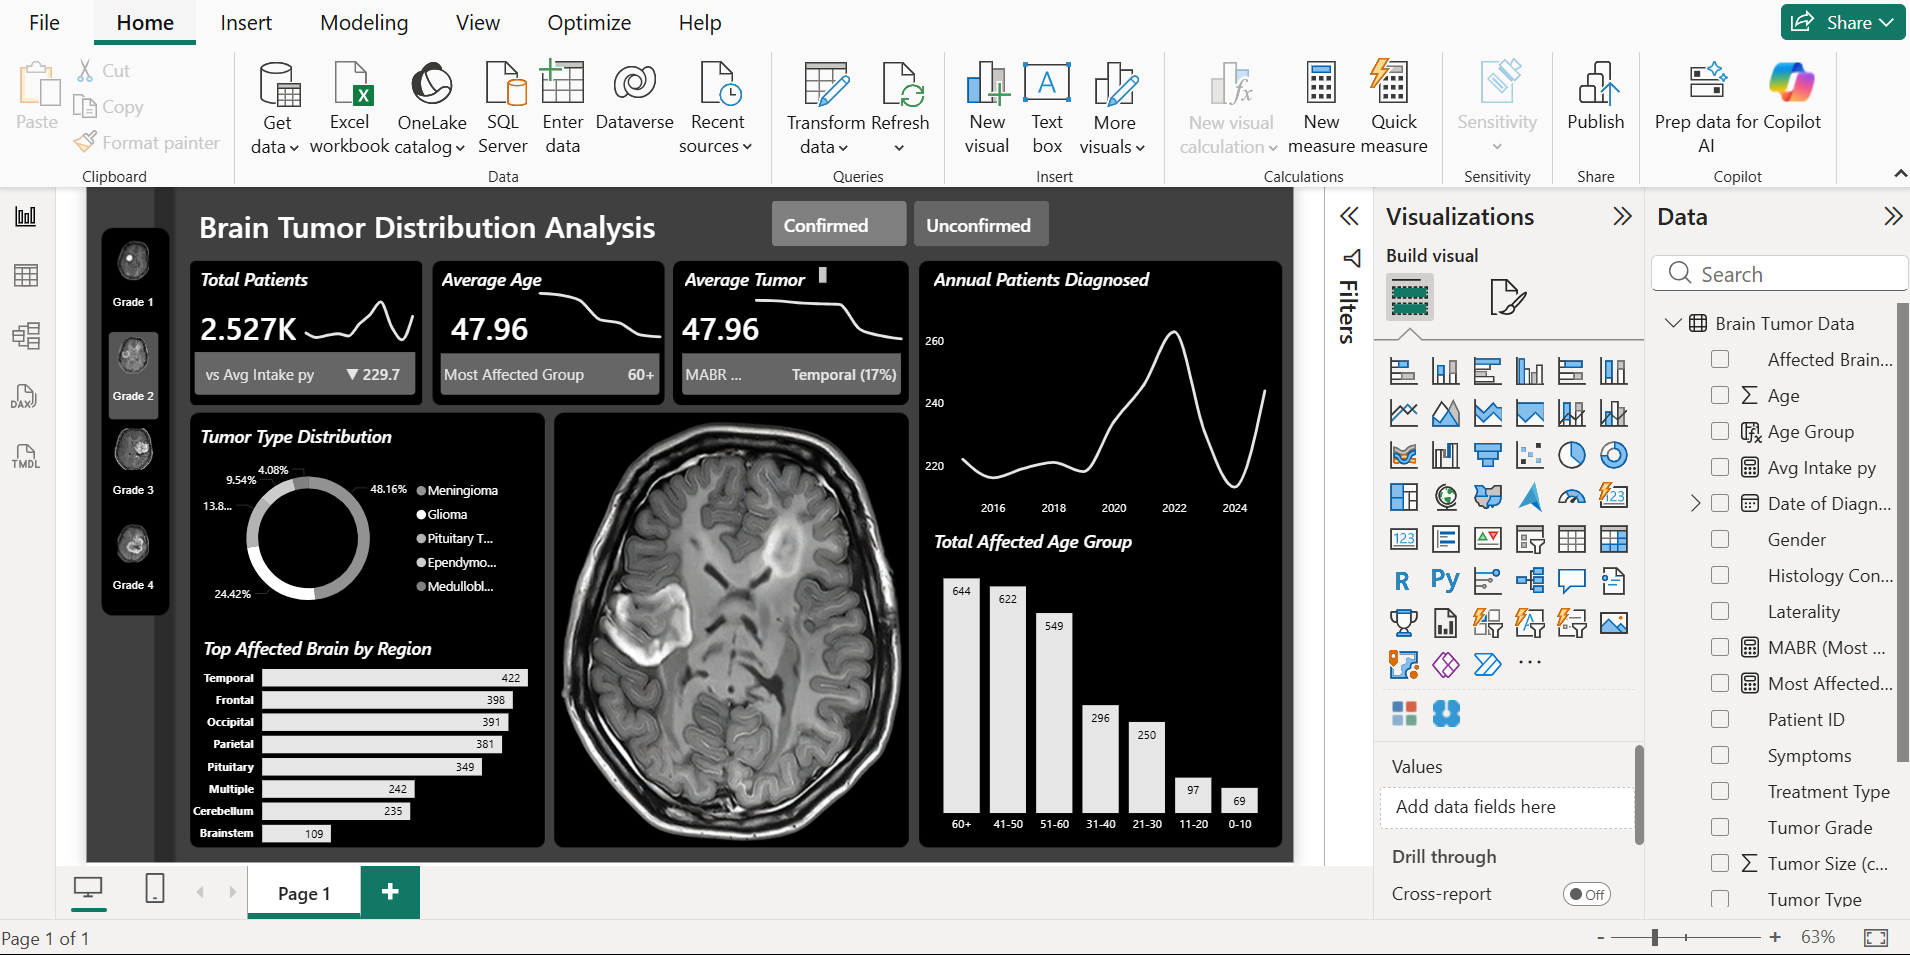

The page's visual inventory and layout, read from the dashboard file:
{"tool":"powerbi","page":{"name":"Page 1","canvas":[1280,720],"ordinal":0},"visuals":[{"type":"cardVisual","fields":{"Data":["CountNonNull(Brain Tumor Data.Patient ID)"]},"box":[92.3,100.2,187.7,95.4],"z":0},{"type":"lineChart","fields":{"Category":["Brain Tumor Data.Date of Diagnosis.Variation.Date Hierarchy.Year"],"Y":["CountNonNull(Brain Tumor Data.Patient ID)"]},"box":[217.9,93.8,143.2,84.3],"z":1000},{"type":"cardVisual","fields":{"Data":["CountNonNull(Brain Tumor Data.Patient ID)"]},"box":[85.9,76.3,292.7,173.4],"z":2000},{"type":"textbox","box":[116,79.5,160.7,36.6],"z":3000},{"type":"cardVisual","fields":{"Data":["Avg(Brain Tumor Data.Age)"]},"box":[357.9,100.2,187.7,95.4],"z":4000},{"type":"lineChart","fields":{"Y":["CountNonNull(Brain Tumor Data.Patient ID)"],"Category":["Brain Tumor Data.Age Group"]},"box":[467.6,85.9,154.3,84.3],"z":5000},{"type":"cardVisual","fields":{"Data":["CountNonNull(Brain Tumor Data.Patient ID)"]},"box":[346.8,76.3,292.7,173.4],"z":6000},{"type":"textbox","box":[372.2,79.5,160.7,36.6],"z":7000},{"type":"cardVisual","fields":{"Data":["Avg(Brain Tumor Data.Age)"]},"box":[602.8,100.2,187.7,95.4],"z":8000},{"type":"lineChart","fields":{"Category":["Brain Tumor Data.Affected Brain Region"],"Y":["Sum(Brain Tumor Data.Tumor Size (cm))"]},"box":[696.7,98.6,181.3,90.7],"z":9000},{"type":"textbox","box":[629.9,79.5,160.7,36.6],"z":10000},{"type":"cardVisual","fields":{"Data":["CountNonNull(Brain Tumor Data.Patient ID)"]},"box":[602.8,76.3,292.7,173.4],"z":11000},{"type":"advancedSlicerVisual","fields":{"Values":["Brain Tumor Data.Histology Confirmation"]},"box":[722.1,9.5,305.4,58.9],"z":12000},{"type":"ChicletSlicer1448559807354","fields":{"Image":["Tumor Images.Column2"],"Category":["Tumor Images.Column1"]},"box":[14.3,44.5,82.7,418.3],"z":13000},{"type":"imageDB603108E3FF4EBFB8047F5653368E8C","fields":{"imageUrl":["Tumor Images.Column2"]},"box":[475.6,216.3,419.9,504.2],"z":14000},{"type":"donutChart","fields":{"Category":["Brain Tumor Data.Tumor Type"],"Y":["CountNonNull(Brain Tumor Data.Patient ID)"]},"box":[116.1,273.6,337.2,197.2],"z":15000},{"type":"textbox","box":[116.1,246.5,238.6,35],"z":16000},{"type":"clusteredBarChart","fields":{"Category":["Brain Tumor Data.Affected Brain Region"],"Y":["CountNonNull(Brain Tumor Data.Patient ID)"]},"box":[106.6,488.3,396.1,221.1],"z":17000},{"type":"textbox","box":[119.3,470.8,275.2,35],"z":18000},{"type":"lineChart","fields":{"Category":["Brain Tumor Data.Date of Diagnosis.Variation.Date Hierarchy.Year"],"Y":["CountNonNull(Brain Tumor Data.Patient ID)"]},"box":[884.4,116.1,383.3,241.8],"z":19000},{"type":"textbox","box":[893.9,79.5,276.8,36.6],"z":20000},{"type":"clusteredColumnChart","fields":{"Category":["Brain Tumor Data.Age Group"],"Y":["CountNonNull(Brain Tumor Data.Patient ID)"]},"box":[884.4,377,383.3,316.5],"z":21000},{"type":"textbox","box":[893.9,357.9,221.1,36.6],"z":22000},{"type":"textbox","box":[114.5,14.3,604.4,62],"z":22001}]}

Visuals, with their boxes on the page's 1280x720 design canvas (x1, y1, x2, y2). These are canvas units, not pixel positions in the 1910x955 screenshot, which may show the page scaled, cropped or inside an application window:
cardVisual - CountNonNull(Brain Tumor Data.Patient ID): {"left": 92, "top": 100, "right": 280, "bottom": 196}
lineChart - Brain Tumor Data.Date of Diagnosis.Variation.Date Hierarchy.Year x CountNonNull(Brain Tumor Data.Patient ID): {"left": 218, "top": 94, "right": 361, "bottom": 178}
cardVisual - CountNonNull(Brain Tumor Data.Patient ID): {"left": 86, "top": 76, "right": 379, "bottom": 250}
textbox: {"left": 116, "top": 80, "right": 277, "bottom": 116}
cardVisual - Avg(Brain Tumor Data.Age): {"left": 358, "top": 100, "right": 546, "bottom": 196}
lineChart - CountNonNull(Brain Tumor Data.Patient ID) x Brain Tumor Data.Age Group: {"left": 468, "top": 86, "right": 622, "bottom": 170}
cardVisual - CountNonNull(Brain Tumor Data.Patient ID): {"left": 347, "top": 76, "right": 640, "bottom": 250}
textbox: {"left": 372, "top": 80, "right": 533, "bottom": 116}
cardVisual - Avg(Brain Tumor Data.Age): {"left": 603, "top": 100, "right": 790, "bottom": 196}
lineChart - Brain Tumor Data.Affected Brain Region x Sum(Brain Tumor Data.Tumor Size (cm)): {"left": 697, "top": 99, "right": 878, "bottom": 189}
textbox: {"left": 630, "top": 80, "right": 791, "bottom": 116}
cardVisual - CountNonNull(Brain Tumor Data.Patient ID): {"left": 603, "top": 76, "right": 896, "bottom": 250}
advancedSlicerVisual - Brain Tumor Data.Histology Confirmation: {"left": 722, "top": 10, "right": 1028, "bottom": 68}
ChicletSlicer1448559807354 - Tumor Images.Column2 x Tumor Images.Column1: {"left": 14, "top": 44, "right": 97, "bottom": 463}
imageDB603108E3FF4EBFB8047F5653368E8C - Tumor Images.Column2: {"left": 476, "top": 216, "right": 896, "bottom": 720}
donutChart - Brain Tumor Data.Tumor Type x CountNonNull(Brain Tumor Data.Patient ID): {"left": 116, "top": 274, "right": 453, "bottom": 471}
textbox: {"left": 116, "top": 246, "right": 355, "bottom": 282}
clusteredBarChart - Brain Tumor Data.Affected Brain Region x CountNonNull(Brain Tumor Data.Patient ID): {"left": 107, "top": 488, "right": 503, "bottom": 709}
textbox: {"left": 119, "top": 471, "right": 394, "bottom": 506}
lineChart - Brain Tumor Data.Date of Diagnosis.Variation.Date Hierarchy.Year x CountNonNull(Brain Tumor Data.Patient ID): {"left": 884, "top": 116, "right": 1268, "bottom": 358}
textbox: {"left": 894, "top": 80, "right": 1171, "bottom": 116}
clusteredColumnChart - Brain Tumor Data.Age Group x CountNonNull(Brain Tumor Data.Patient ID): {"left": 884, "top": 377, "right": 1268, "bottom": 694}
textbox: {"left": 894, "top": 358, "right": 1115, "bottom": 394}
textbox: {"left": 114, "top": 14, "right": 719, "bottom": 76}
